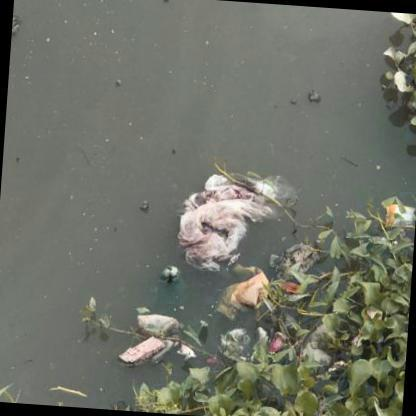Plastic: (135, 314, 180, 339)
Trash: (174, 169, 294, 272), (212, 269, 272, 320), (116, 336, 175, 371), (383, 199, 416, 236), (218, 325, 252, 357), (162, 264, 181, 292)
